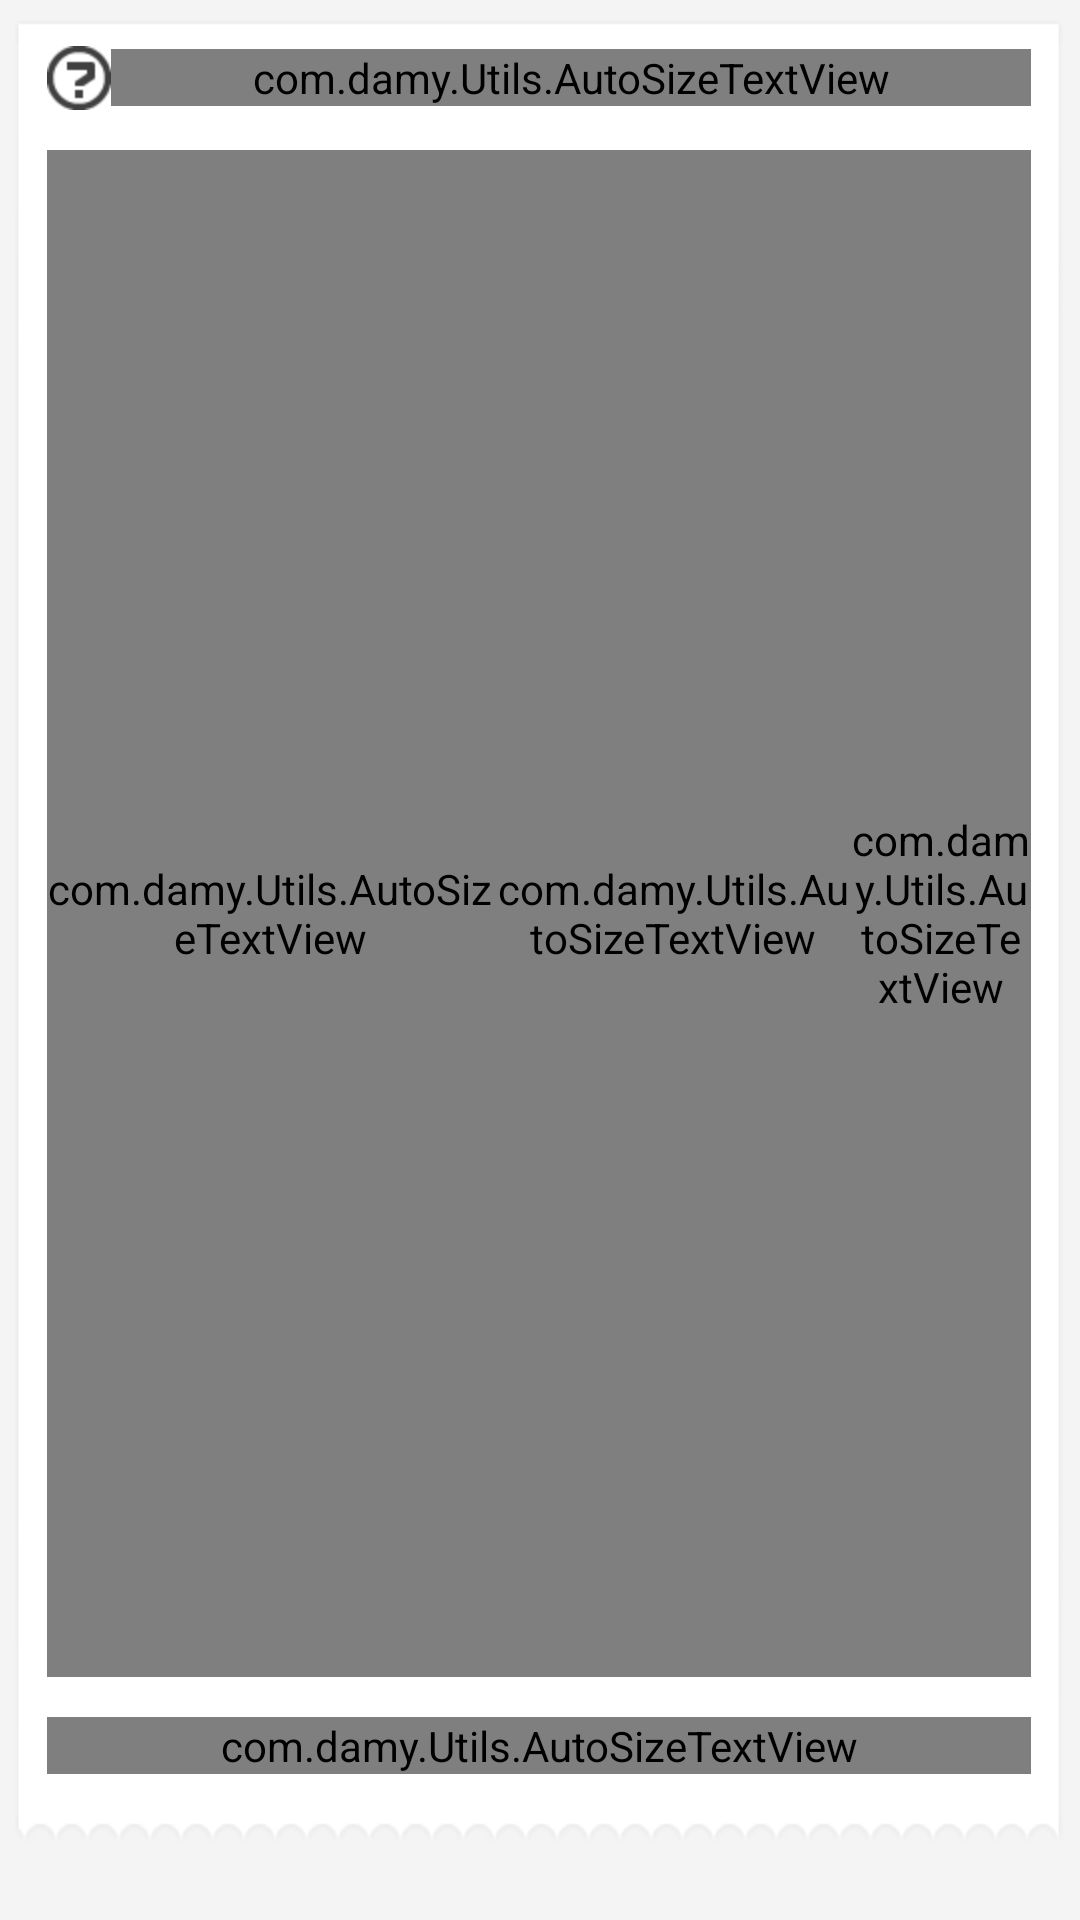

Screen size 1080w x 1920h. Icon name, then its box in pixels as (x1, y1, x2, y2):
faq item questionmark: (47, 46, 111, 110)
